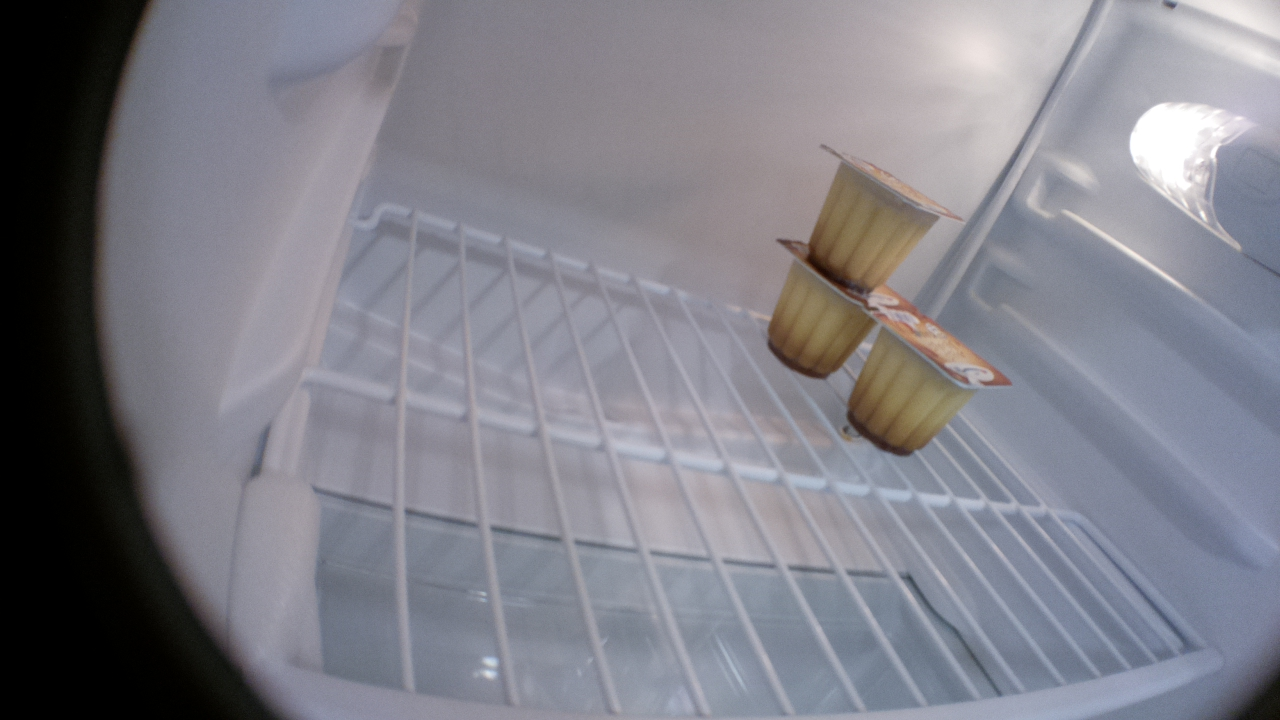caramel: (844, 306, 1014, 458), (809, 144, 962, 292), (762, 235, 897, 380)
